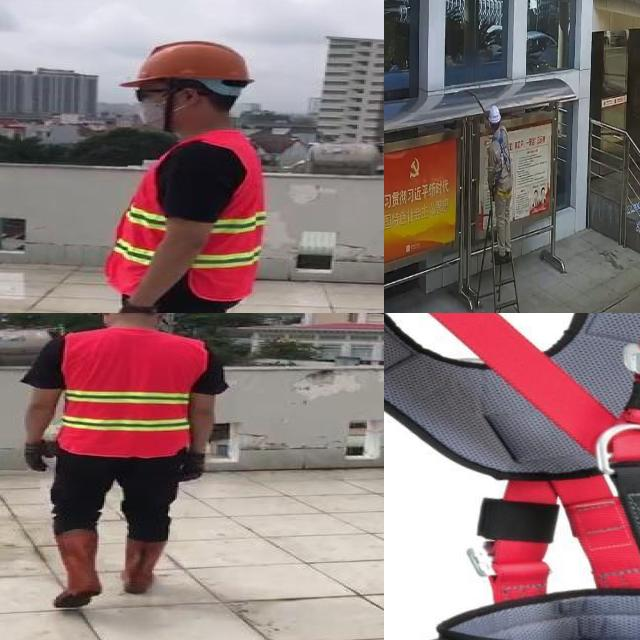Harness: (384, 313, 640, 640), (492, 130, 513, 192)
boots: (49, 529, 102, 611), (122, 537, 164, 594)
face_mask: (125, 83, 193, 130)
hand_glove: (22, 441, 49, 470), (179, 452, 205, 481), (116, 304, 161, 313)
head_helmet: (130, 38, 256, 87)
person: (18, 313, 230, 612), (66, 34, 284, 313)
vest: (103, 131, 264, 303), (60, 327, 204, 456)
